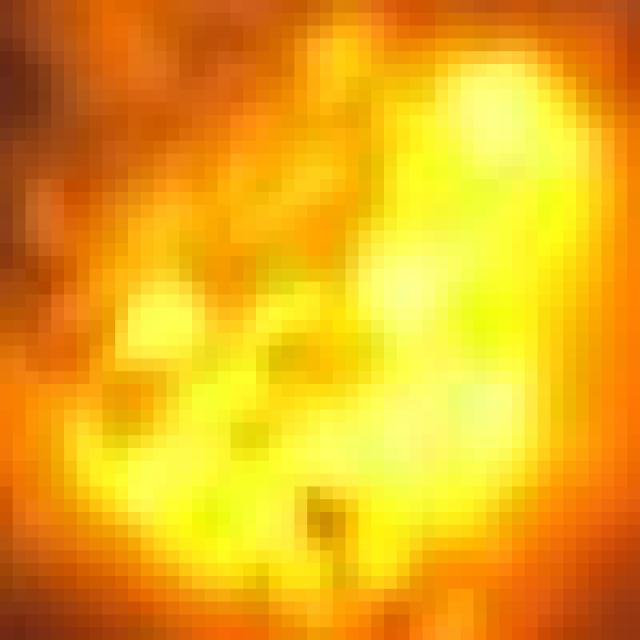fire: (2, 17, 626, 640)
